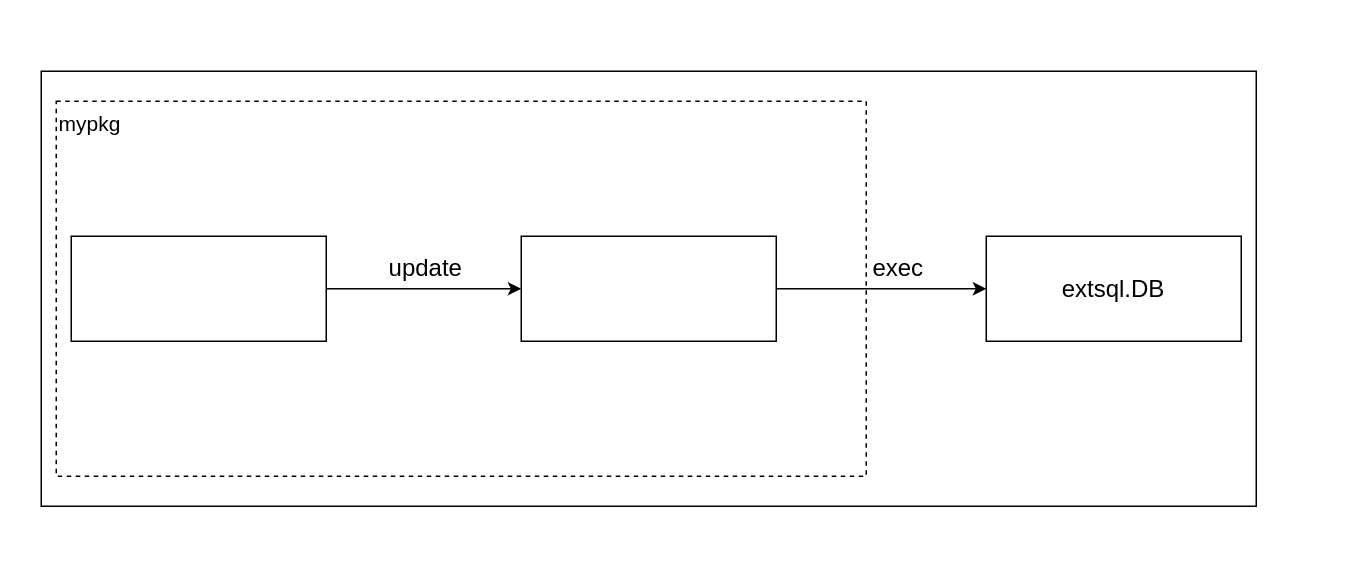
The diagram is 1371 pixels wide and 561 high, and some of its shapes have lost their labels. The shapes that lost their labels are listed below. From the top down, each one's box as (x1, y1, x2, y2) in pixels, then its label:
(70, 235, 326, 341): publishing.Service
(520, 235, 776, 341): sql.articleRepository
